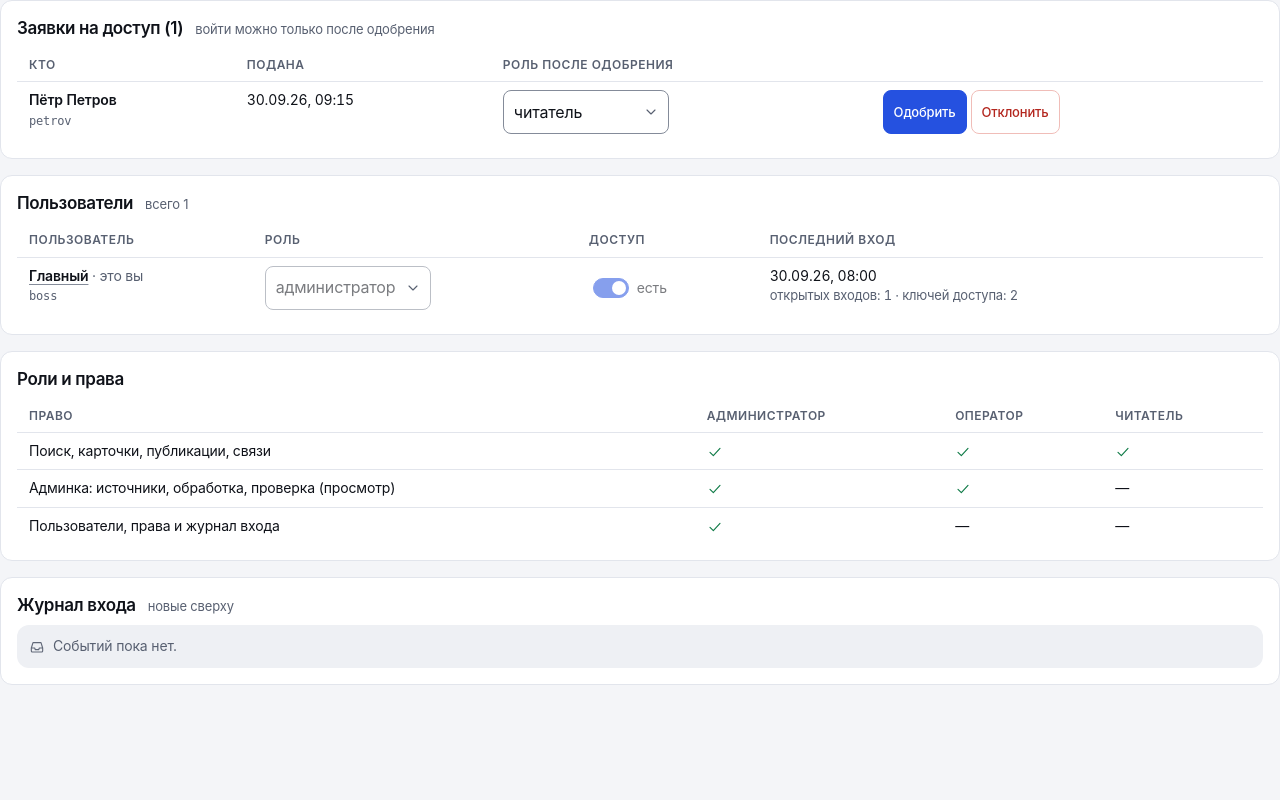
экран «Пользователи» › заявку уже рассмотрел другой администратор — отказ сервера тостом
Click the button named "Одобрить «Пётр Петров»": click(925, 112) [883,90,966,134]
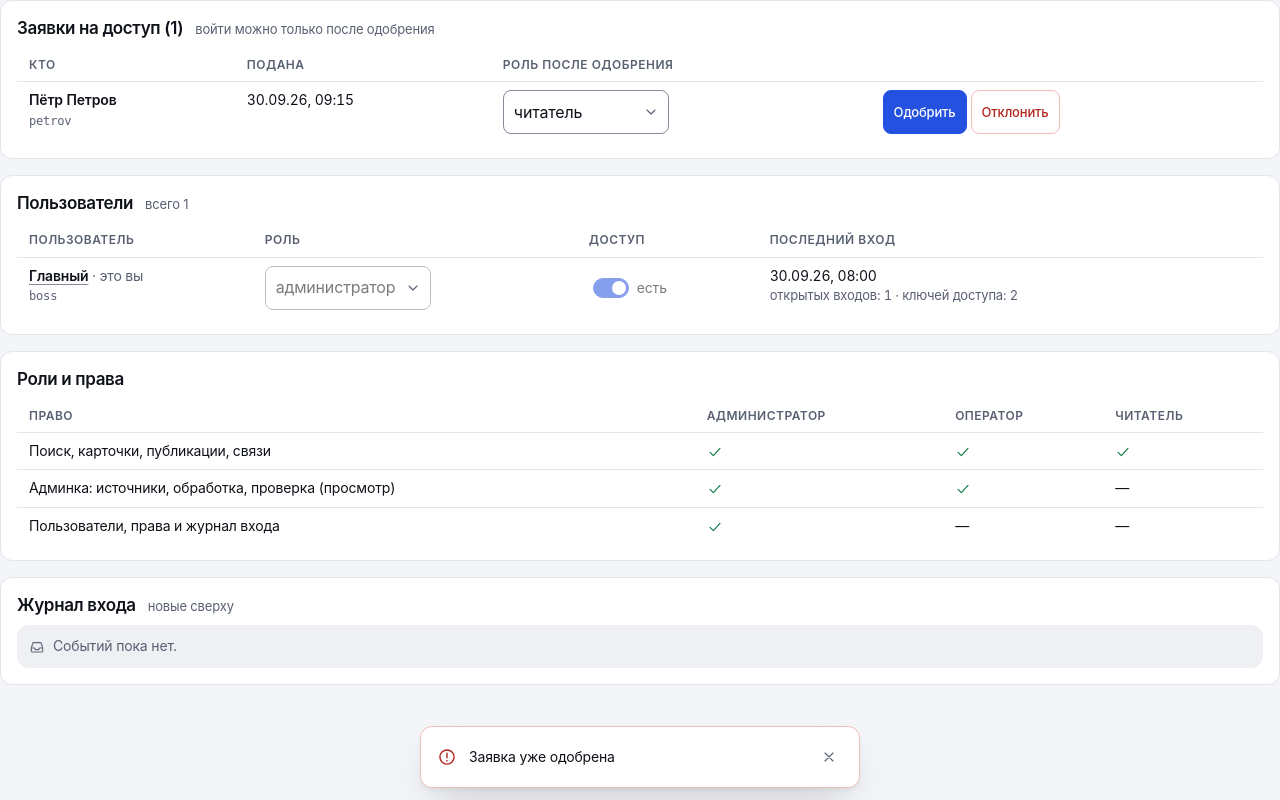
Check: the text "Заявка уже одобрена" is shown, box [469,748,615,764]
